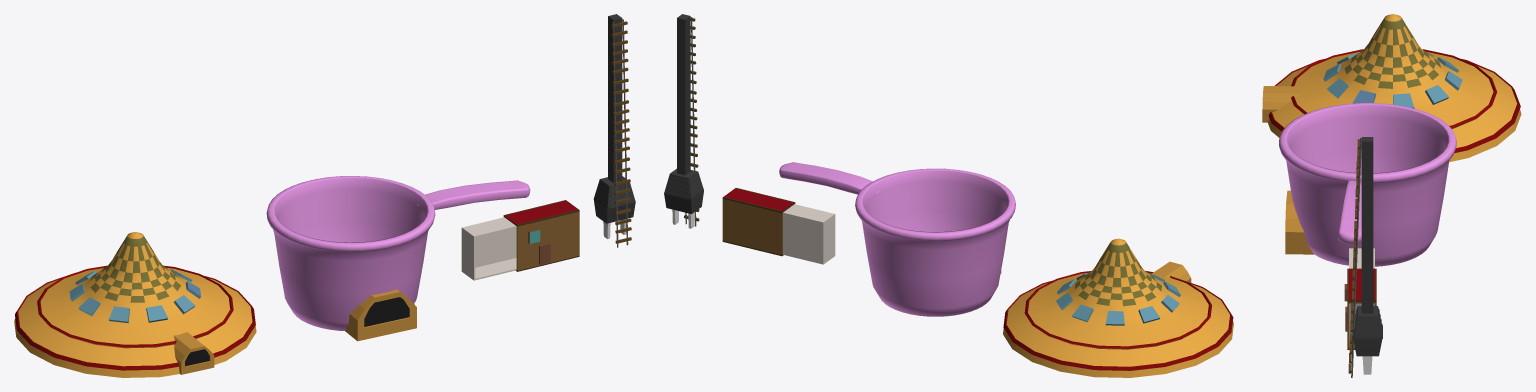
Rendered from STRUCTURES.fbx.
3 views of the same model, side by side, from view 1: azimuth 30°, elevation 25°; view 2: azimuth 150°, elevation 25°; view 3: azimuth 270°, elevation 25° (orthographic). The views are drawn at different scales.
Visible parts, largest first — view 1: pCone1, pCylinder4, pCube25, saksak, pasted__pasted__Tunnel6, pCube26, pasted__pasted__Tunnel5; view 2: pCone1, pCylinder4, pCube25, saksak, pCube26, pasted__pasted__Tunnel5; view 3: pCylinder4, pCone1, saksak, pCube25, pCube26, pasted__pasted__Tunnel6, pasted__pasted__Tunnel5, pCylinder6.
Boxes of the visible parts, x1,y1,x2,y2 form: pCone1: (14, 232, 256, 377); pCylinder4: (266, 176, 435, 330); pCube25: (461, 200, 579, 280); saksak: (593, 14, 635, 238); pasted__pasted__Tunnel6: (345, 289, 416, 341); pCube26: (417, 180, 530, 209); pasted__pasted__Tunnel5: (174, 332, 214, 374); pCone1: (1003, 238, 1233, 377); pCylinder4: (855, 168, 1015, 316); pCube25: (722, 188, 835, 264); saksak: (664, 14, 703, 228); pCube26: (779, 162, 878, 194); pasted__pasted__Tunnel5: (1151, 261, 1191, 282); pCylinder4: (1279, 103, 1456, 266); pCone1: (1268, 14, 1521, 162); saksak: (1352, 137, 1382, 374); pCube25: (1344, 248, 1376, 349); pCube26: (1338, 180, 1361, 243); pasted__pasted__Tunnel6: (1285, 190, 1314, 254); pasted__pasted__Tunnel5: (1262, 86, 1302, 122); pCylinder6: (1351, 143, 1361, 377).
Size of the model in its own units: 159 by 58.11 by 57.57.
